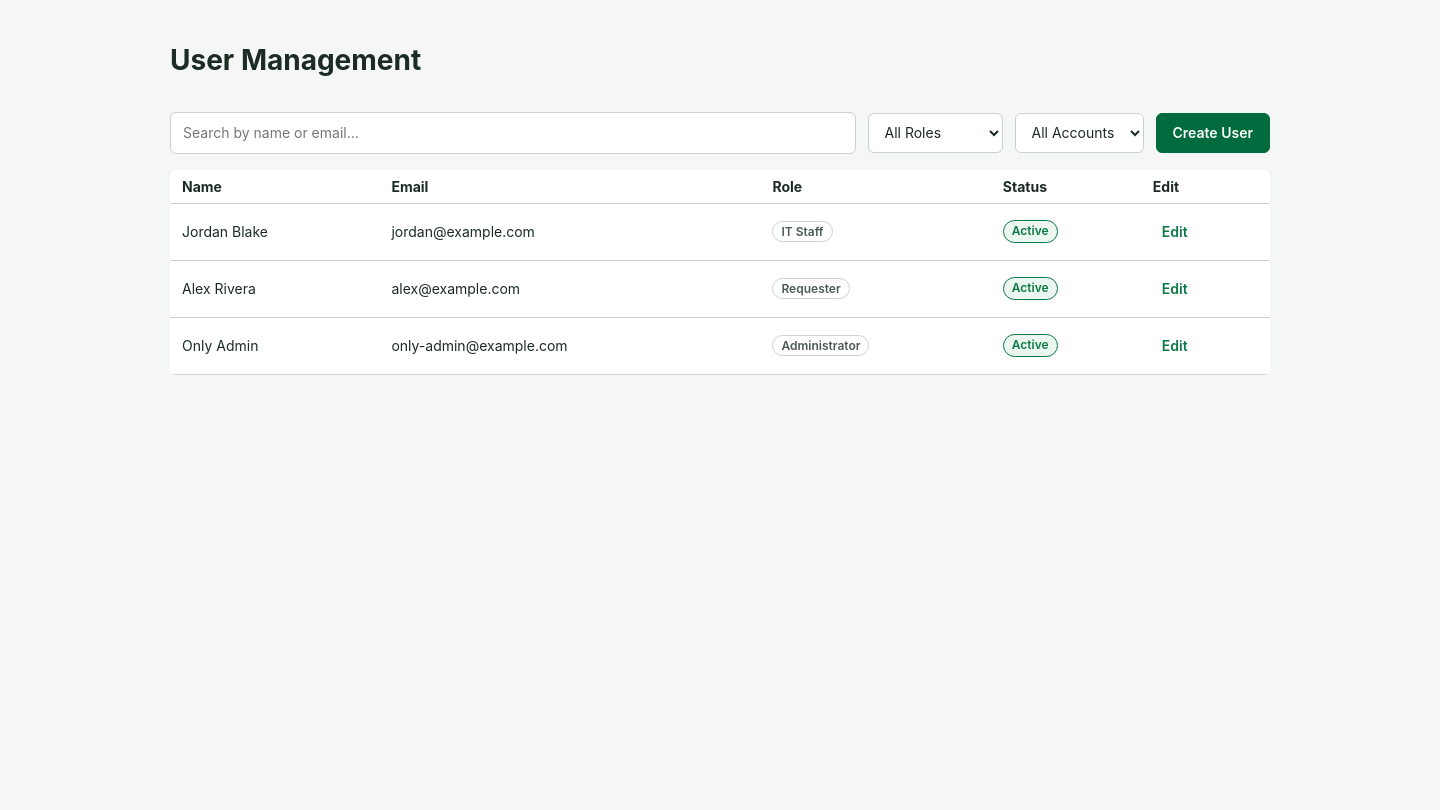
Test: UserManagement › the sole active Administrator's row, viewed by a different Admin, renders a disabled Active toggle with an explanatory message
What coordinates should you click on to do the following:
click the button "Edit" in the row of "Only Admin"
I would click on:
 (1175, 346)
Its box is [1153,326,1197,366].
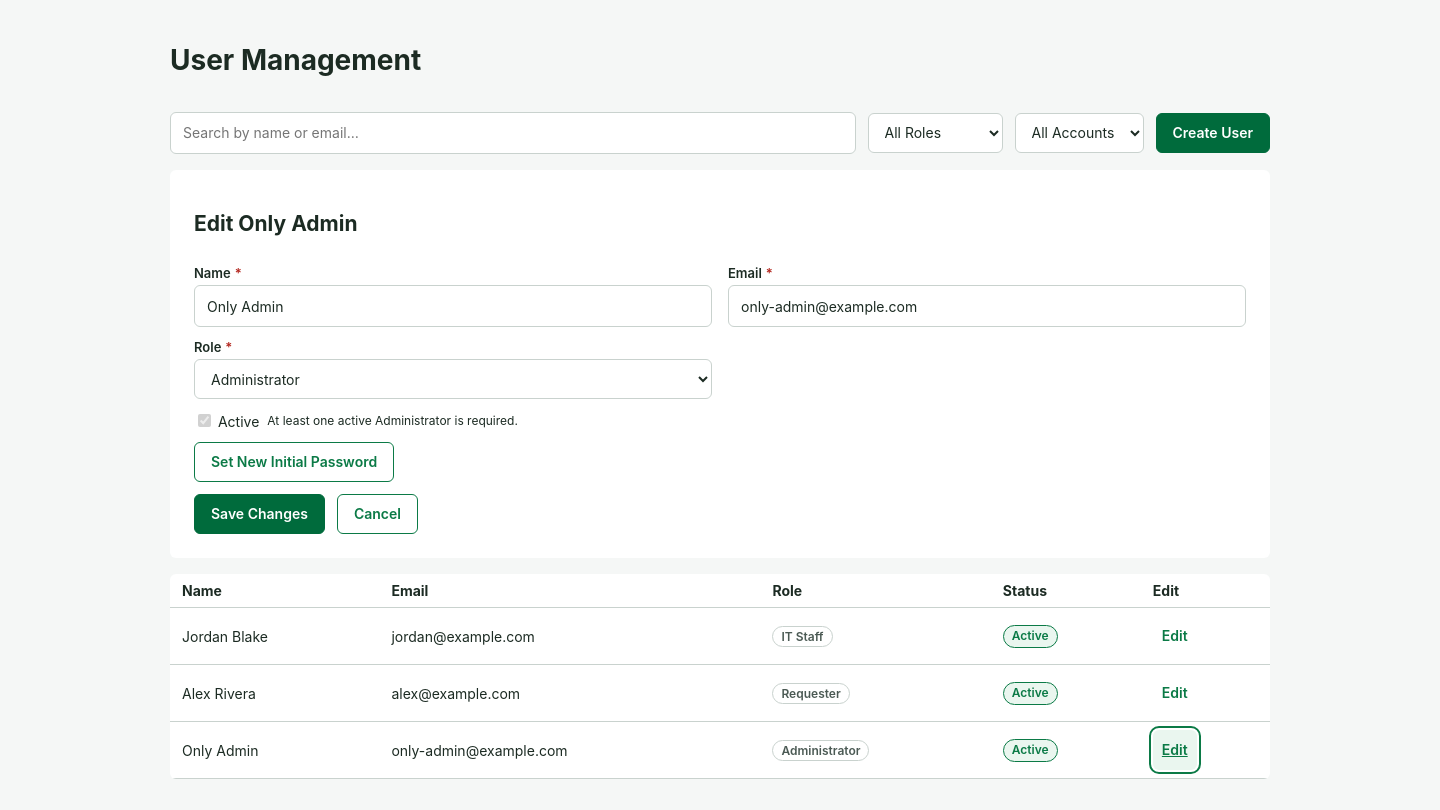
Check: the checkbox labelled "Active" is disabled, box [198,414,211,427]
Check: the text "At least one active Administrator is required." is shown, box [267,413,518,428]
